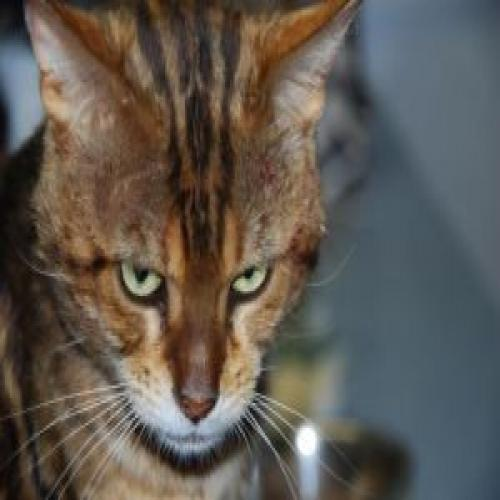bengal: (18, 1, 364, 466)
